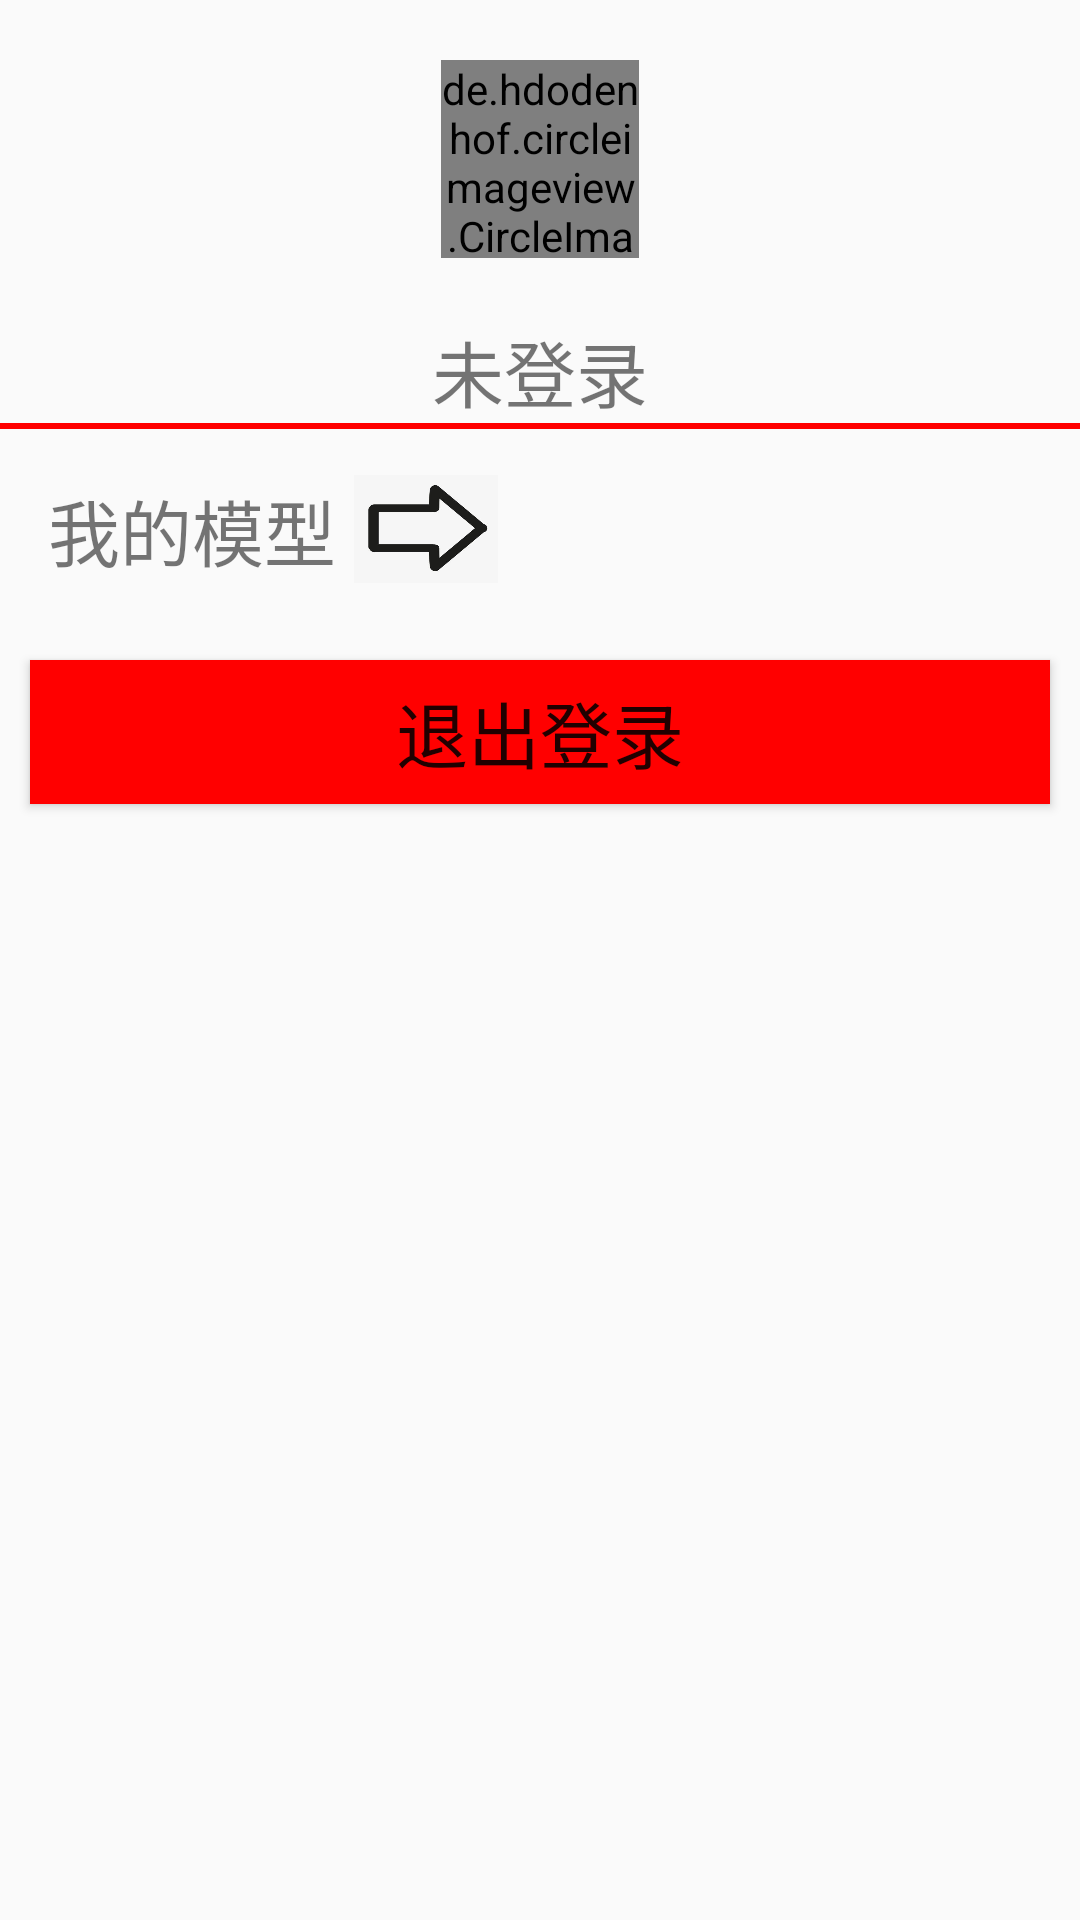

Icons on this 1080×1920 Android screen, each with its box as region(x1, y1, x2, y2):
right arrow: region(368, 485, 488, 571)
